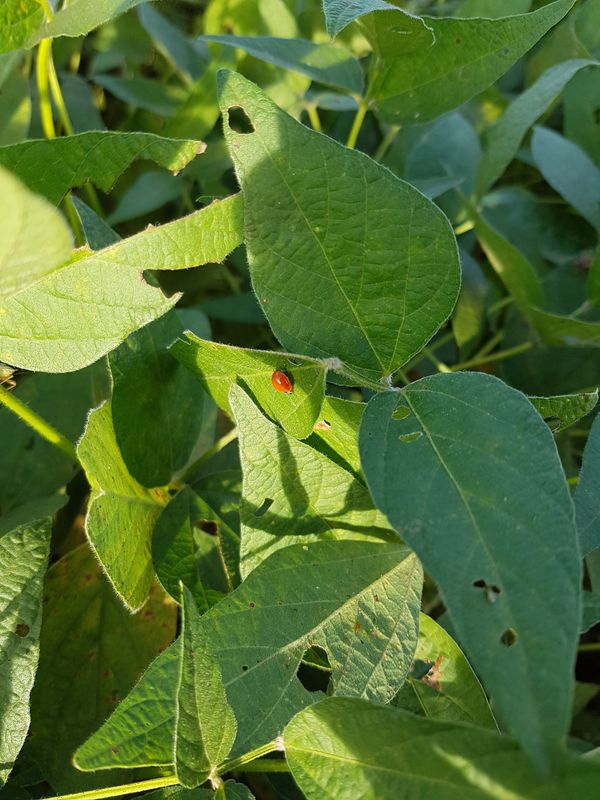Coccinellidae: (259, 364, 304, 402)
